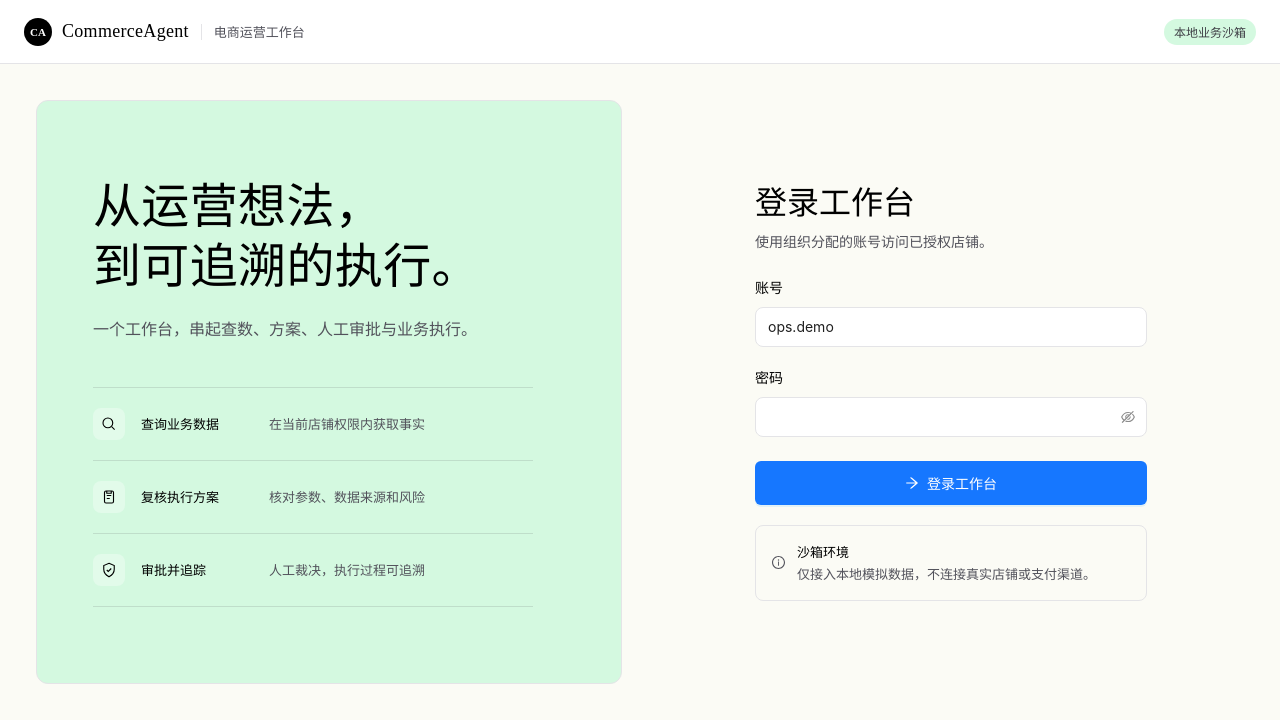
Test: LoginPage › shows validation errors for empty credentials
Clear the field labelled "账号" at (951, 327), box [755, 307, 1147, 347]
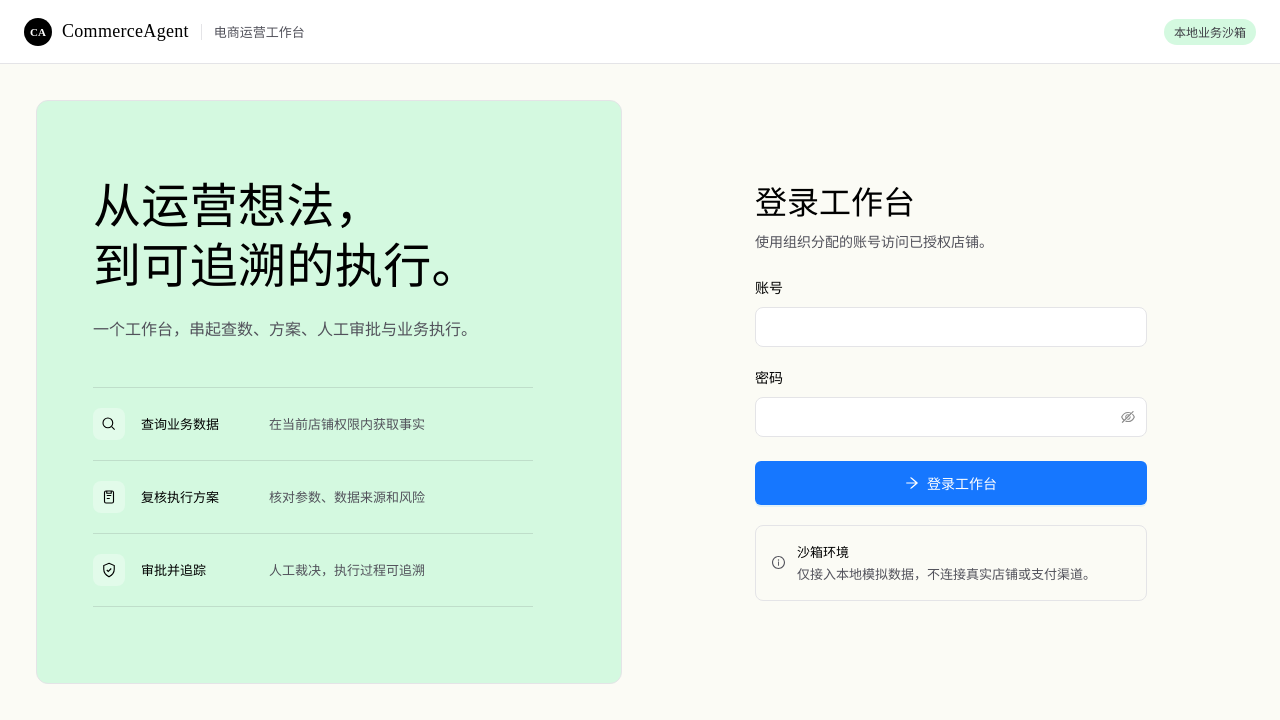
Click the button "登录工作台" at (951, 483), box [755, 461, 1147, 505]
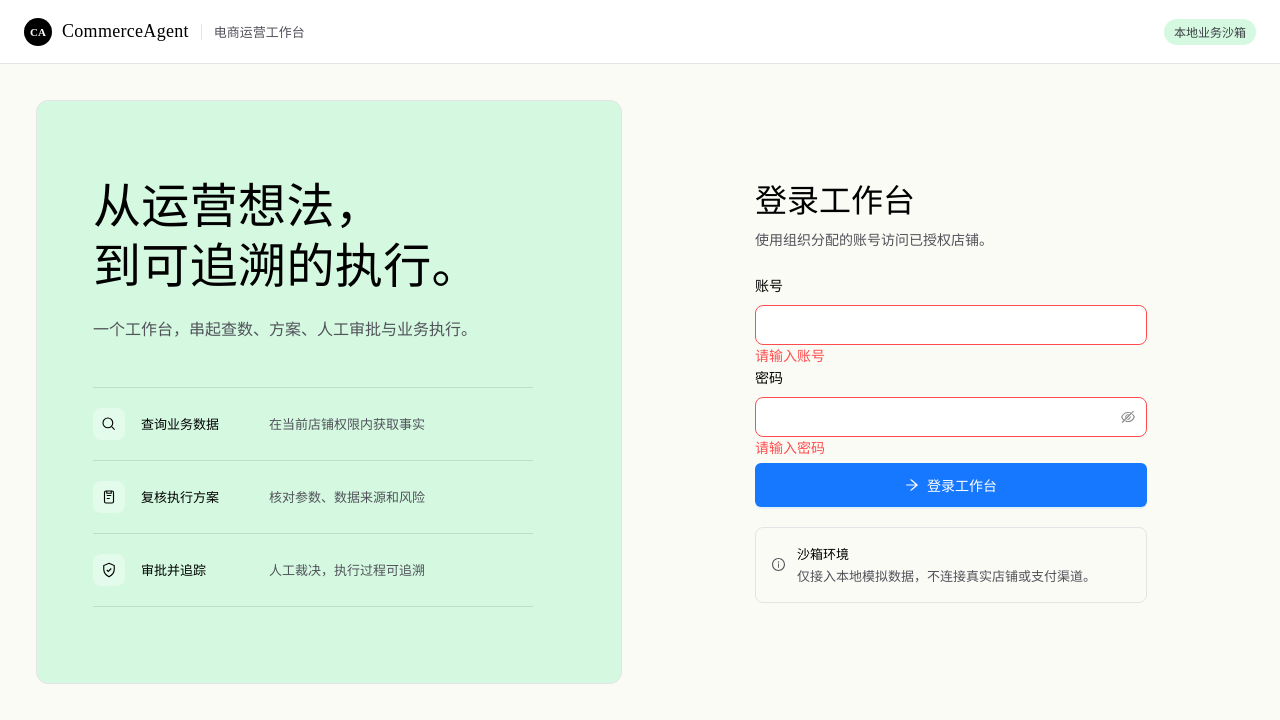
Expected: the text "请输入账号" is shown, [755, 347, 825, 364]
Expected: the text "请输入密码" is shown, [755, 439, 825, 456]
